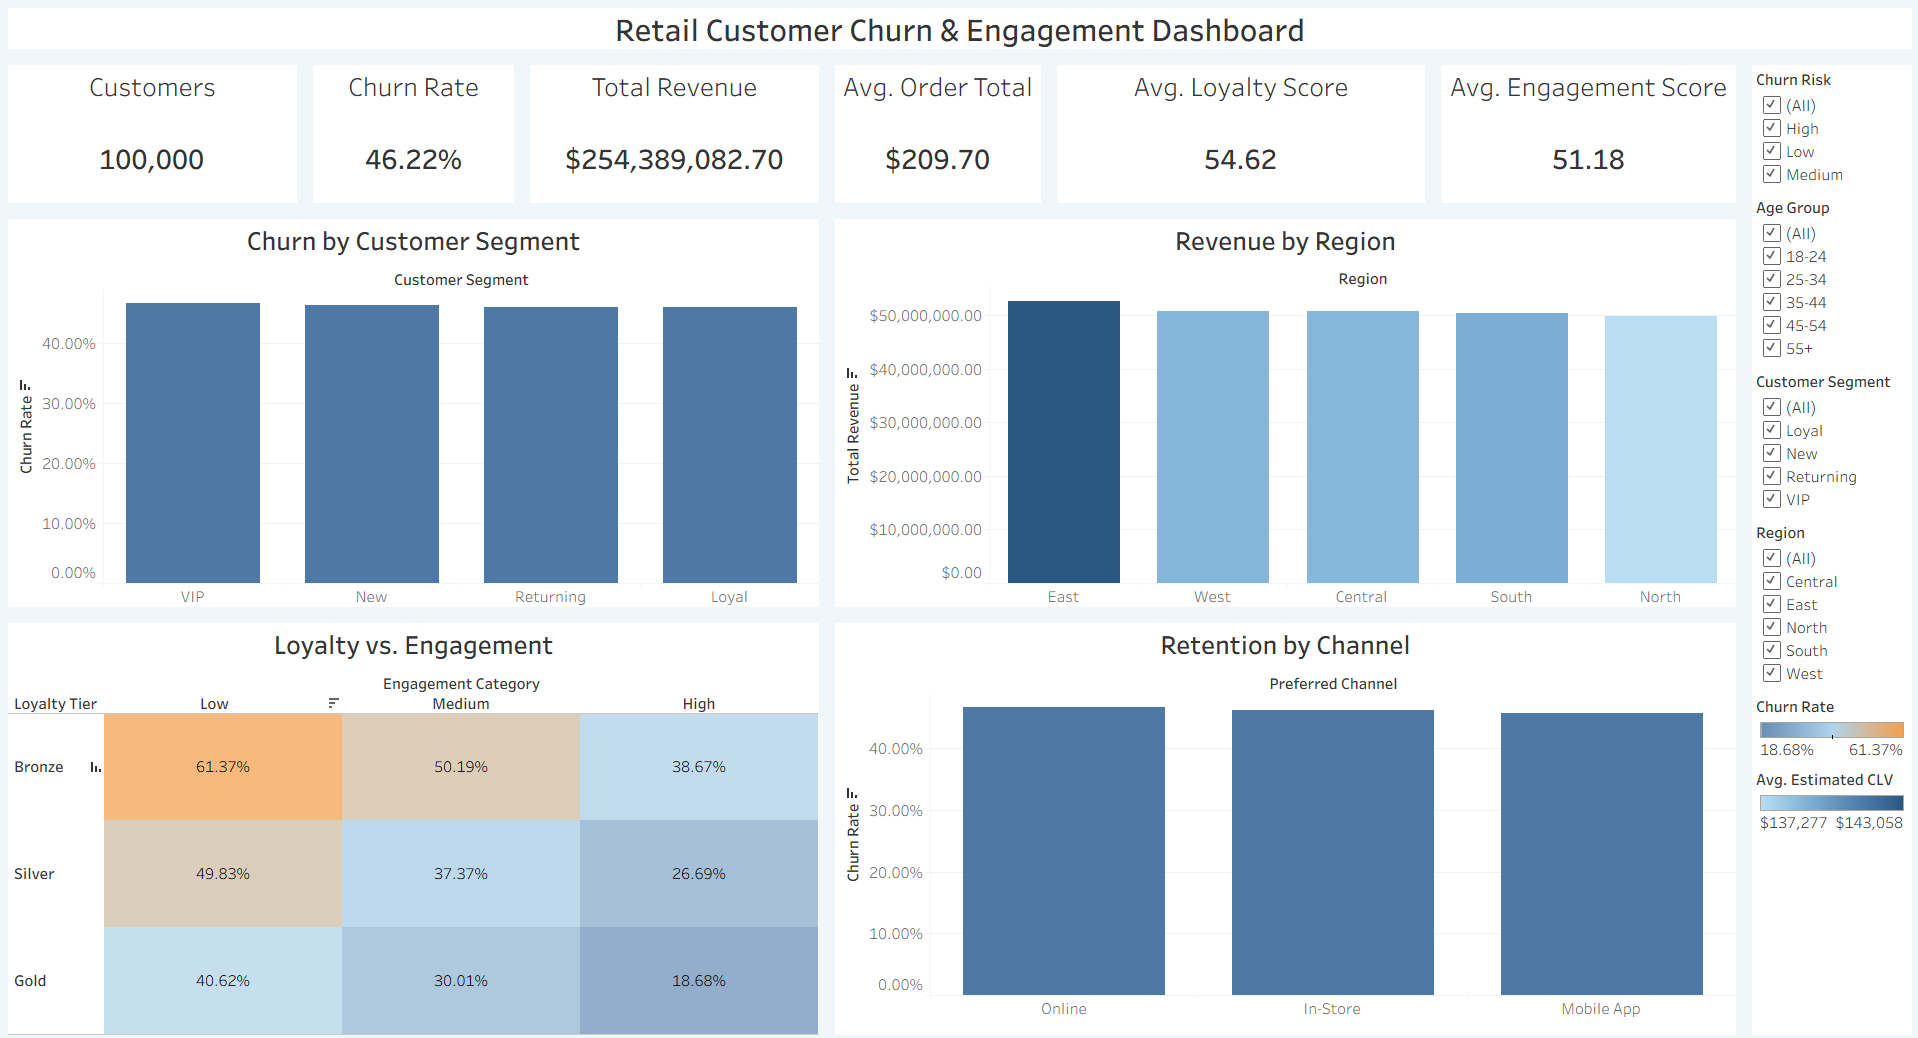

The page's visual inventory and layout, read from the dashboard file:
{"tool":"tableau","page":{"name":"Retail Customer Churn & Engagement Dashboard","canvas":[1000,1000],"units":"permille","ordinal":0},"visuals":[{"type":"title","box":[0,0,1000,67]},{"type":"worksheet","title":"Customers","mark":"Automatic","box":[0,67,146.4,145.4]},{"type":"worksheet","title":"Churn Rate","mark":"Automatic","box":[146.4,67,131,145.4]},{"type":"worksheet","title":"Total Revenue","mark":"Automatic","box":[277.3,67,146.4,145.4]},{"type":"worksheet","title":"Avg. Order Total","mark":"Automatic","box":[423.7,67,134,145.4]},{"type":"worksheet","title":"Avg. Loyalty Score","mark":"Automatic","box":[557.7,67,148.4,145.4]},{"type":"worksheet","title":"Avg. Engagement Score","mark":"Automatic","box":[706.1,67,187.7,145.4]},{"type":"filter","title":"Churn by Customer Segment","param":"[federated.0mw1dxr0q12u5e16ni5ds0an7om5].[none:churn_risk:nk]","box":[898.6,76.4,96.6,150.4]},{"type":"worksheet","title":"Churn by Customer Segment","mark":"Automatic","rows":["Calculation_2525303920644096"],"cols":["customer_segment"],"box":[0,212.3,423.8,382.8]},{"type":"worksheet","title":"Revenue by Region","mark":"Automatic","rows":["Calculation_2525303921233921"],"cols":["region"],"box":[423.8,212.3,469.9,382.8]},{"type":"filter","title":"Churn by Customer Segment","param":"[federated.0mw1dxr0q12u5e16ni5ds0an7om5].[none:age_group:nk]","box":[898.6,226.8,96.6,204.5]},{"type":"filter","title":"Churn by Customer Segment","param":"[federated.0mw1dxr0q12u5e16ni5ds0an7om5].[none:customer_segment:nk]","box":[898.6,431.2,96.6,177.4]},{"type":"worksheet","title":"Loyalty vs. Engagement","mark":"Square","rows":["Calculation_2525303922372613"],"cols":["Calculation_2525303922278404"],"box":[0,595.1,423.8,404.9]},{"type":"worksheet","title":"Retention by Channel","mark":"Automatic","rows":["Calculation_2525303920644096"],"cols":["preferred_channel"],"box":[423.8,595.1,469.9,404.9]},{"type":"filter","title":"Churn by Customer Segment","param":"[federated.0mw1dxr0q12u5e16ni5ds0an7om5].[none:region:nk]","box":[898.6,608.7,96.6,204.5]},{"type":"legend","title":"Loyalty vs. Engagement","param":"[federated.0mw1dxr0q12u5e16ni5ds0an7om5].[usr:Calculation_2525303920644096:qk]","box":[898.6,813.1,96.6,85.8]},{"type":"legend","title":"Revenue by Region","param":"[federated.0mw1dxr0q12u5e16ni5ds0an7om5].[avg:Calculation_2525303921967107:qk]","box":[898.6,898.9,96.6,85.8]}]}

Visuals, with their boxes on the dashboard's canvas, which has no fixed pixel size, in thousandths of its width and height (x1, y1, x2, y2). These are canvas units, not pixel positions in the 1918x1038 screenshot, which may show the page scaled, cropped or inside an application window:
title: select_region(0, 0, 1000, 67)
"Customers" worksheet: select_region(0, 67, 146, 212)
"Churn Rate" worksheet: select_region(146, 67, 277, 212)
"Total Revenue" worksheet: select_region(277, 67, 424, 212)
"Avg. Order Total" worksheet: select_region(424, 67, 558, 212)
"Avg. Loyalty Score" worksheet: select_region(558, 67, 706, 212)
"Avg. Engagement Score" worksheet: select_region(706, 67, 894, 212)
"Churn by Customer Segment" filter: select_region(899, 76, 995, 227)
"Churn by Customer Segment" worksheet: select_region(0, 212, 424, 595)
"Revenue by Region" worksheet: select_region(424, 212, 894, 595)
"Churn by Customer Segment" filter: select_region(899, 227, 995, 431)
"Churn by Customer Segment" filter: select_region(899, 431, 995, 609)
"Loyalty vs. Engagement" worksheet (Square marks): select_region(0, 595, 424, 1000)
"Retention by Channel" worksheet: select_region(424, 595, 894, 1000)
"Churn by Customer Segment" filter: select_region(899, 609, 995, 813)
"Loyalty vs. Engagement" legend: select_region(899, 813, 995, 899)
"Revenue by Region" legend: select_region(899, 899, 995, 985)
